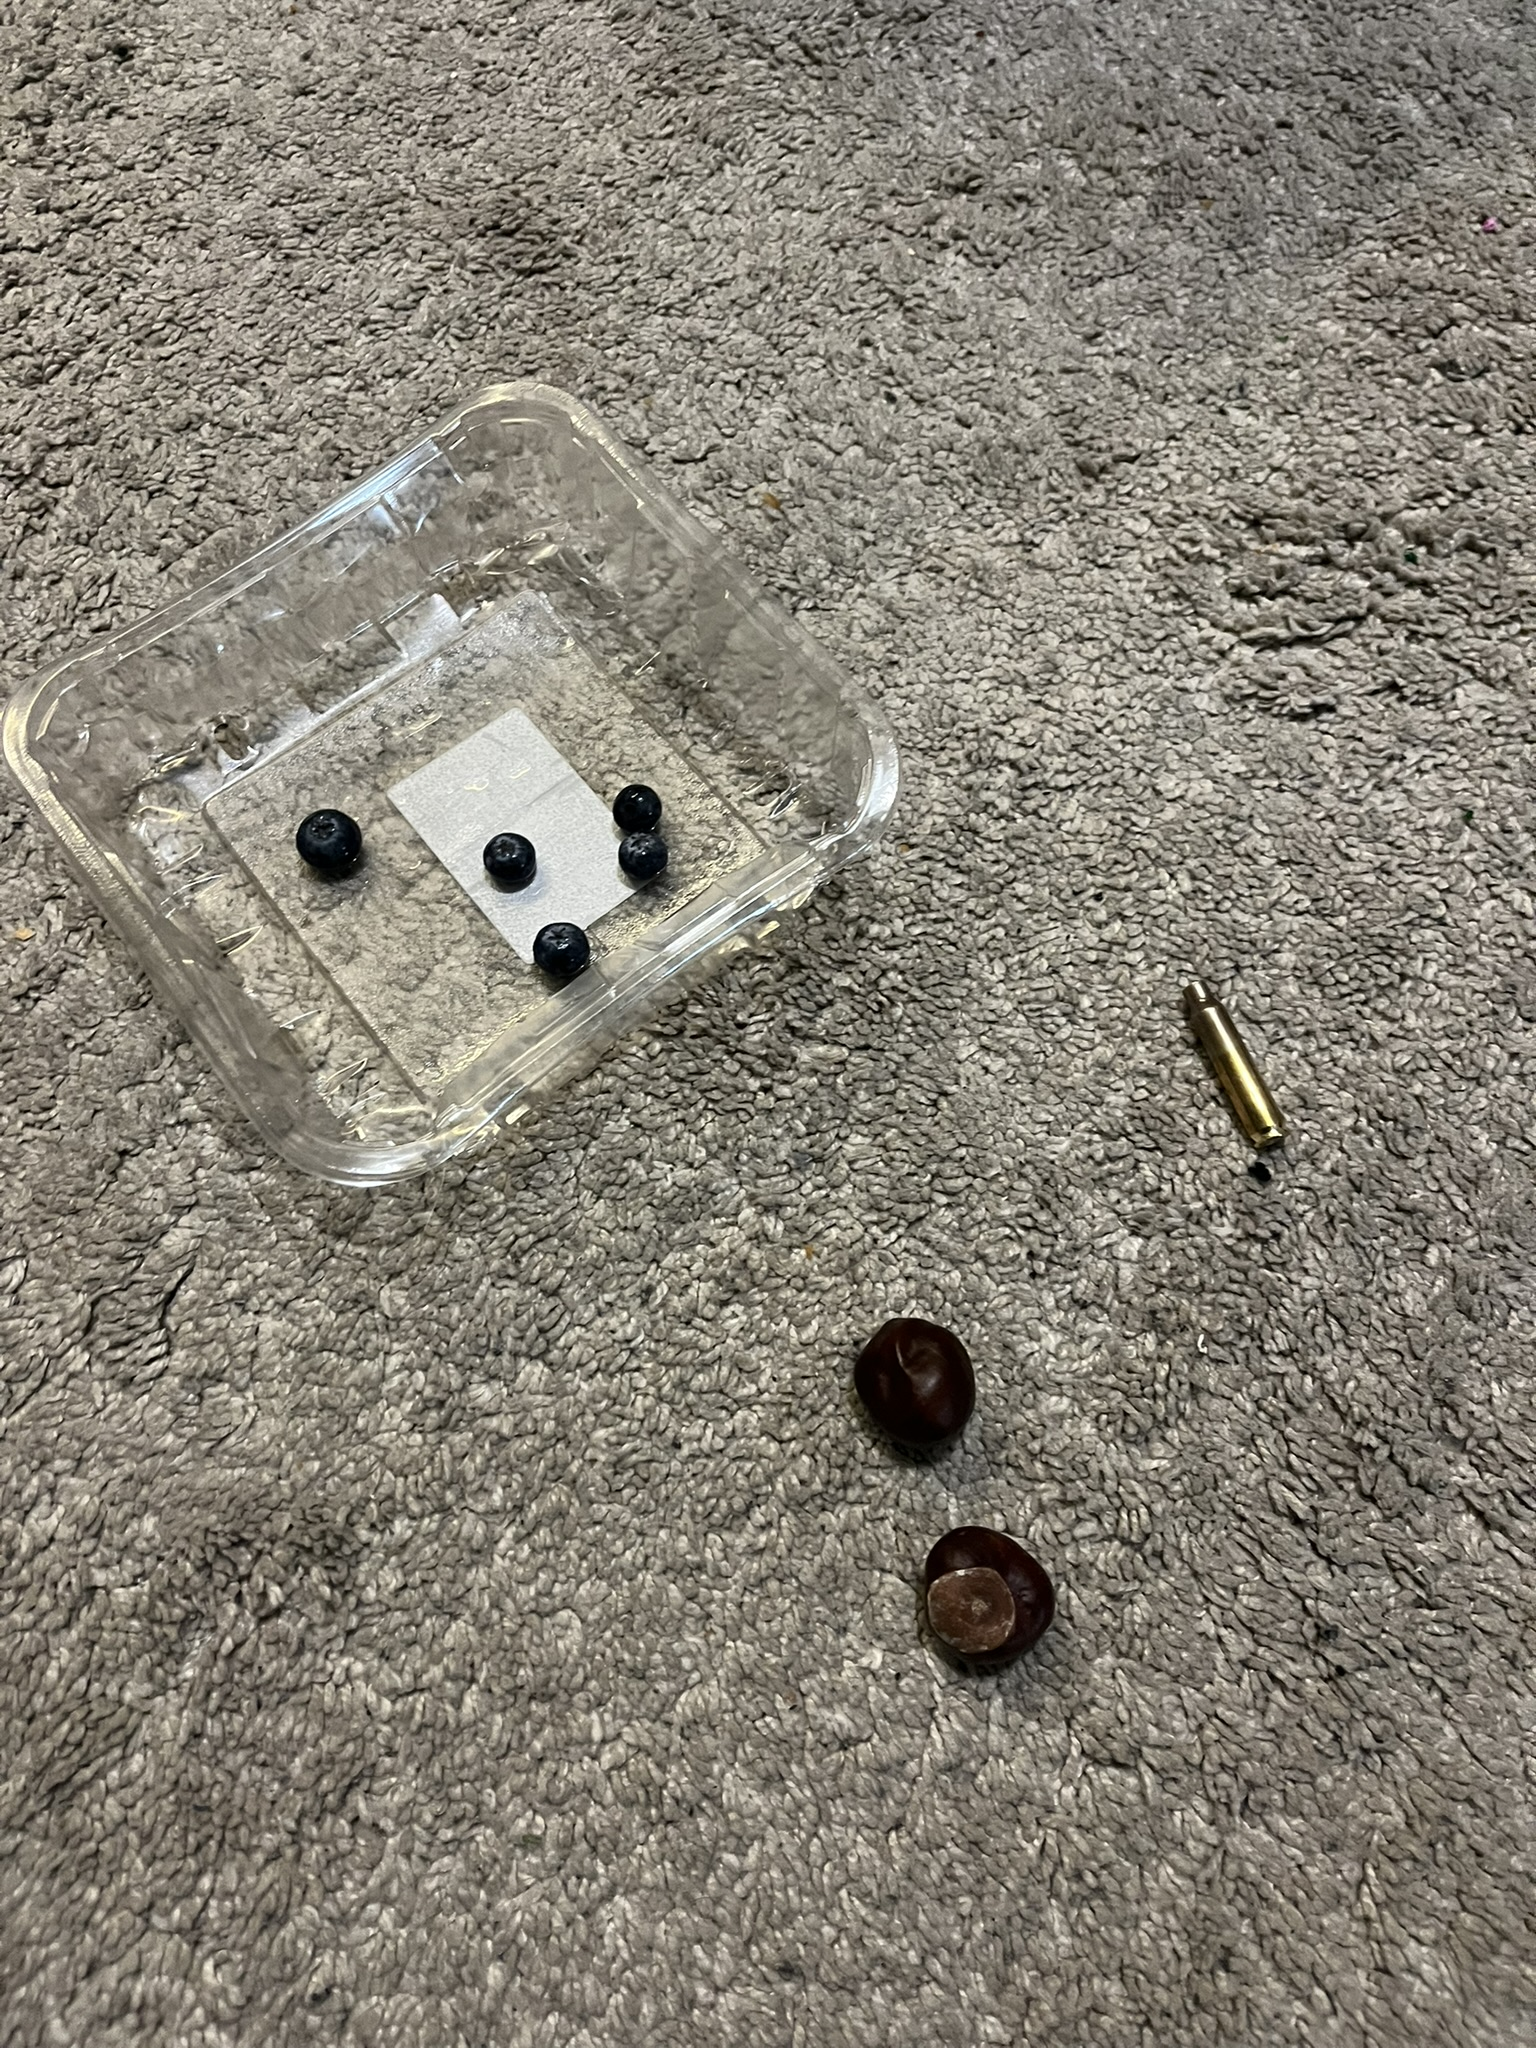BIODEGRADABLE: (907, 1524, 1079, 1677), (841, 1311, 989, 1472), (289, 800, 369, 884), (605, 776, 674, 834), (479, 829, 541, 893), (531, 918, 594, 977), (618, 829, 671, 887)
METAL: (1162, 976, 1225, 1182)
PLASTIC: (613, 256, 1289, 1069)
